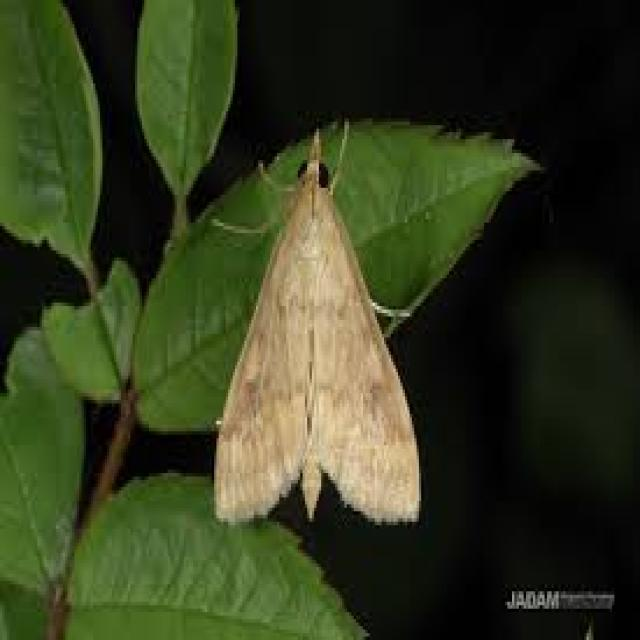yellow-stem-borer: (180, 99, 478, 539)
